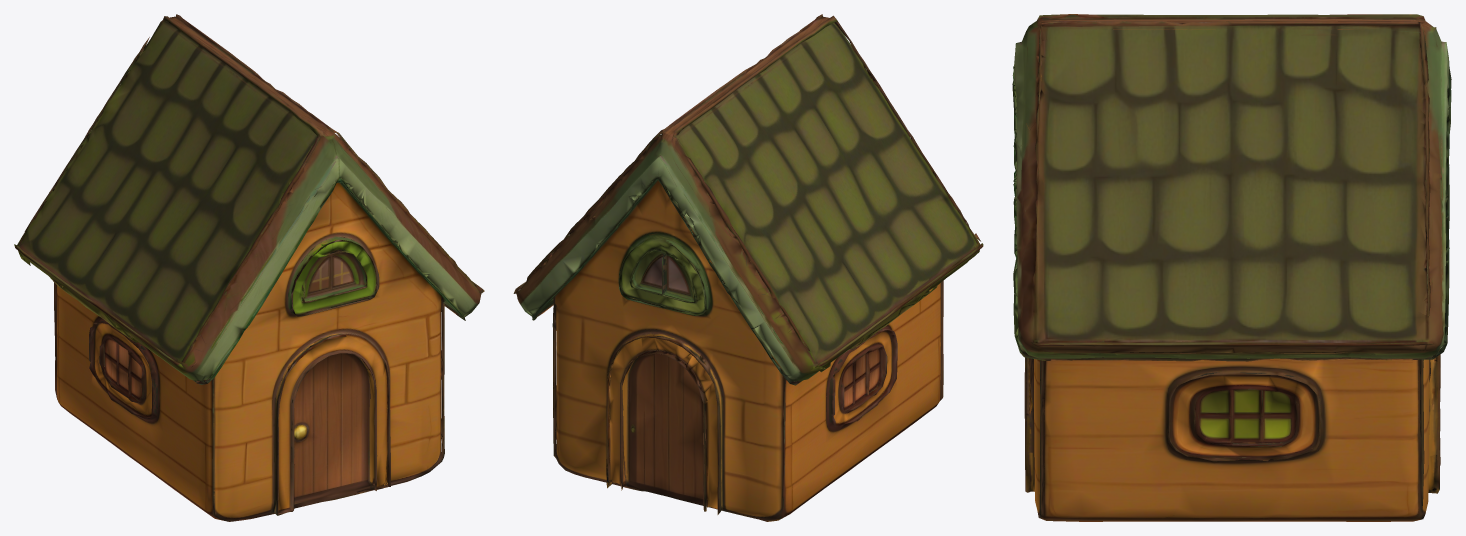
File: Cozy_Green_Cabin_0514192233_texture.fbx
3 renders of one model, left to right at view 1: azimuth 30°, elevation 25°; view 2: azimuth 150°, elevation 25°; view 3: azimuth 270°, elevation 25°, orthographic. The views are drawn at different scales.
Parts seen in each view (by area): view 1: Mesh1; view 2: Mesh1; view 3: Mesh1.
Boxes of the visible parts, x1,y1,x2,y2 form: Mesh1: [14, 14, 484, 521]; Mesh1: [513, 14, 983, 521]; Mesh1: [1012, 14, 1451, 521].
Bounding box in the file's own units: 172 × 198 × 176.
1 material, 1 textured.
